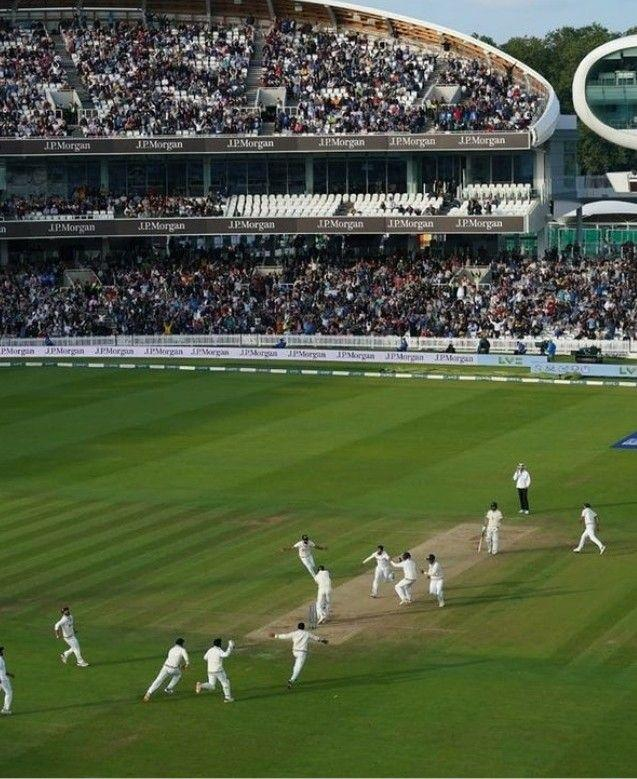batsman: (473, 494, 511, 560)
